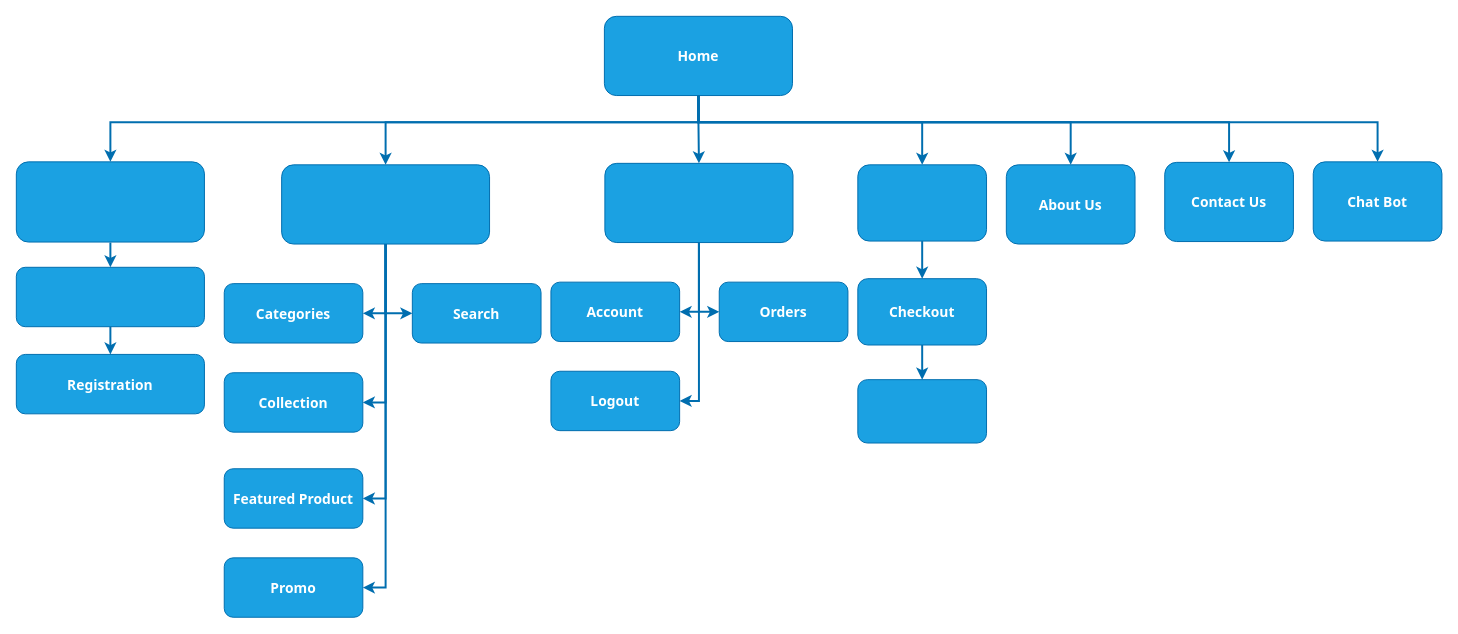
The diagram is 1458 pixels wide and 634 high, and some of its shapes have lost their labels. Here are the shapes that lost their labels. From the top down, the centre of each, then its label:
At (109,201): "Login Page".
At (385,204): "Shop".
At (698,202): "My Account".
At (922,202): "Cart".
At (109,296): "Email Confirmation".
At (922,411): "Order Success".
